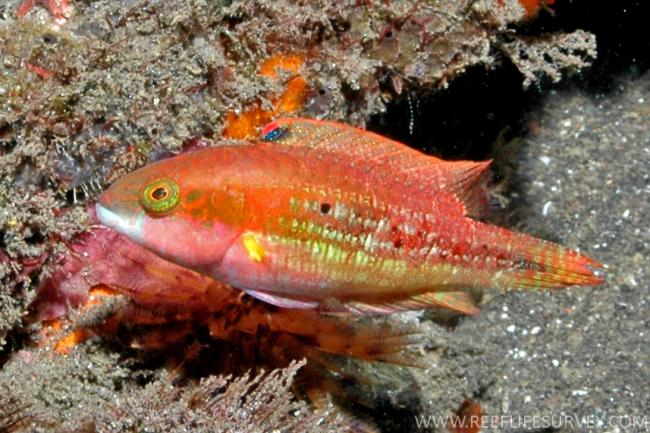fish: (95, 118, 609, 318)
